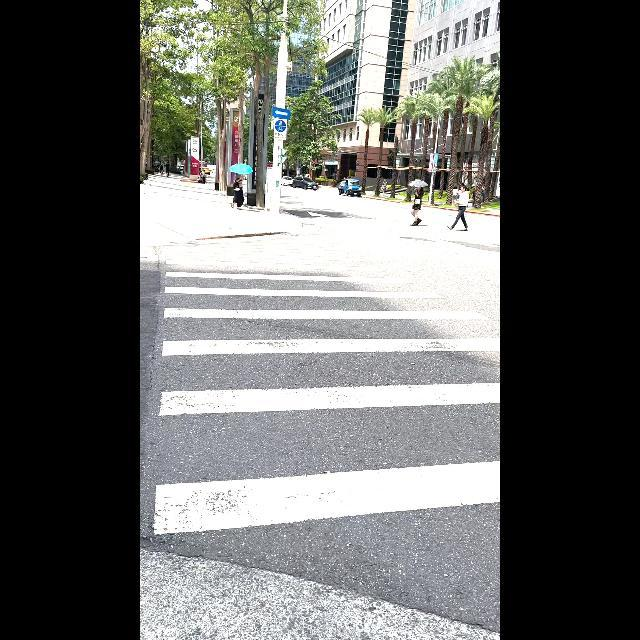sidewalk: (155, 258, 497, 538)
